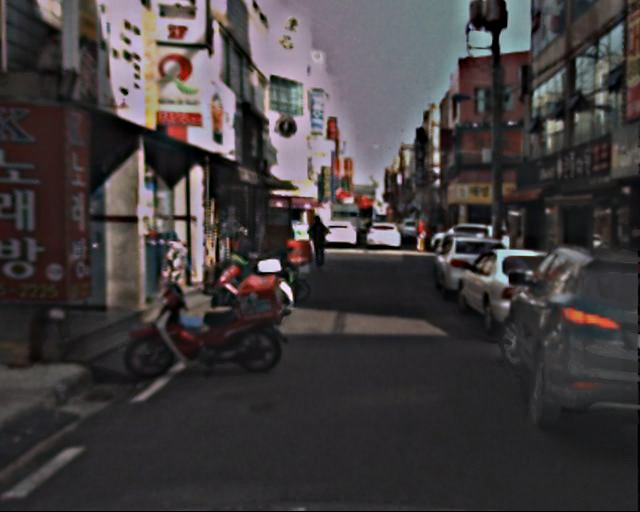person: (310, 215, 333, 271), (416, 220, 438, 255)
